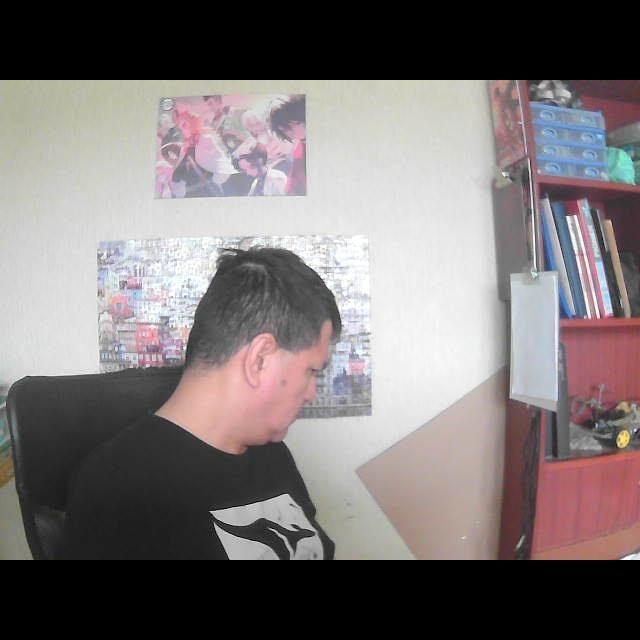cesar: (169, 231, 355, 465)
